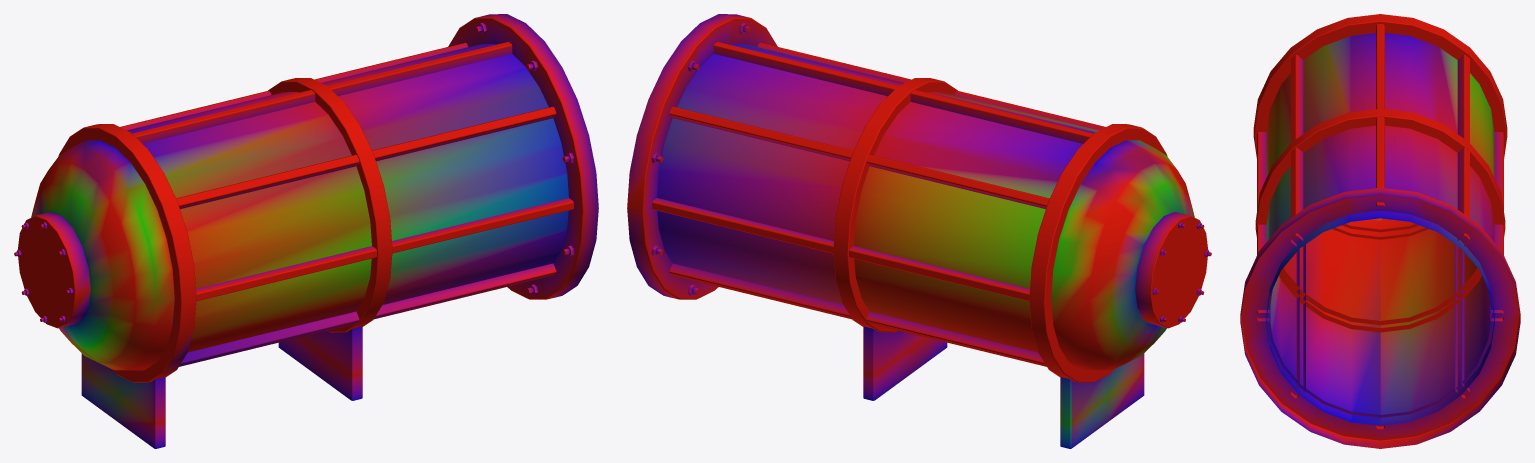
Rendered from LargeMetalPropC.fbx.
3 renders of one model, left to right at view 1: azimuth 30°, elevation 25°; view 2: azimuth 150°, elevation 25°; view 3: azimuth 270°, elevation 25°, orthographic. The views are drawn at different scales.
Parts seen in each view (by area): view 1: T4.000, T4.001; view 2: T4.000, T4.001; view 3: T4.000, T4.001.
Boxes of the visible parts, x1,y1,x2,y2 form: T4.000: (31,44,568,370); T4.001: (14,14,598,448); T4.000: (657,44,1194,370); T4.001: (627,14,1211,448); T4.000: (1266,33,1494,425); T4.001: (1240,14,1520,448).
Size of the model in its own units: 303 by 179 by 157.
